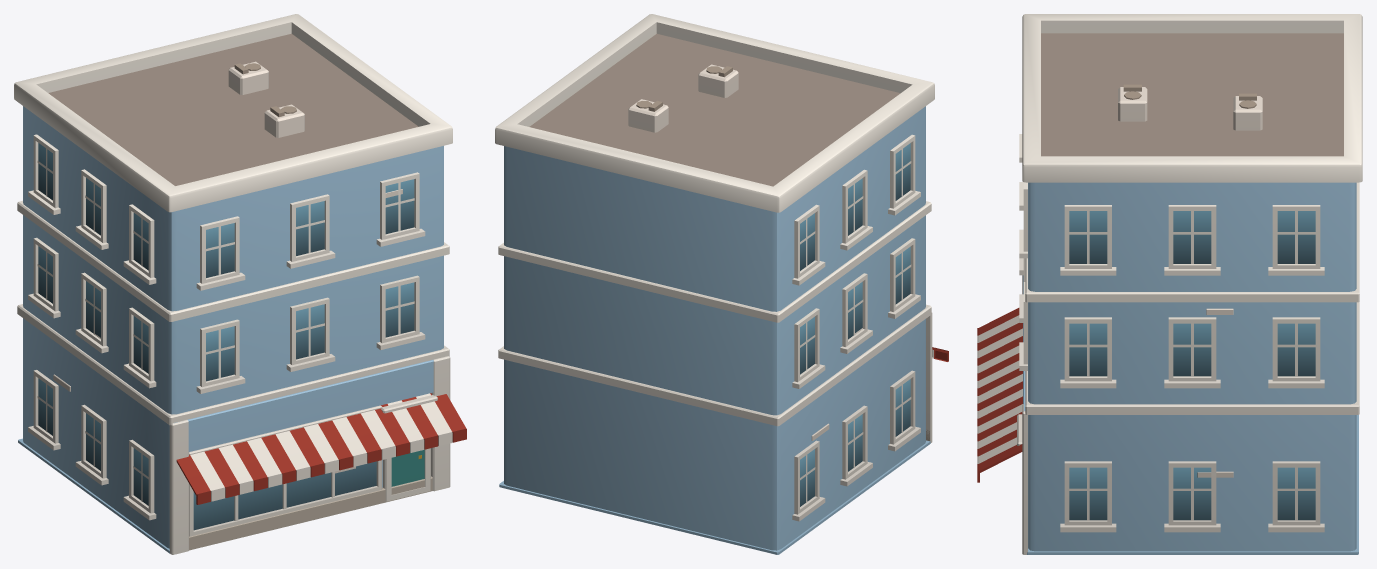
Rendered from vee_left1.glb.
3 renders of one model, left to right at view 1: azimuth 30°, elevation 25°; view 2: azimuth 150°, elevation 25°; view 3: azimuth 270°, elevation 25°, orthographic. The views are drawn at different scales.
Parts seen in each view (by area): view 1: vee_left1; view 2: vee_left1; view 3: vee_left1.
Part boxes in pixels (bbox=[...]): vee_left1: bbox=[14, 14, 466, 554]; vee_left1: bbox=[495, 14, 948, 554]; vee_left1: bbox=[977, 14, 1362, 554].
Bounding box in the file's own units: 9.98 × 12.19 × 10.55.
1 material, 1 textured.
